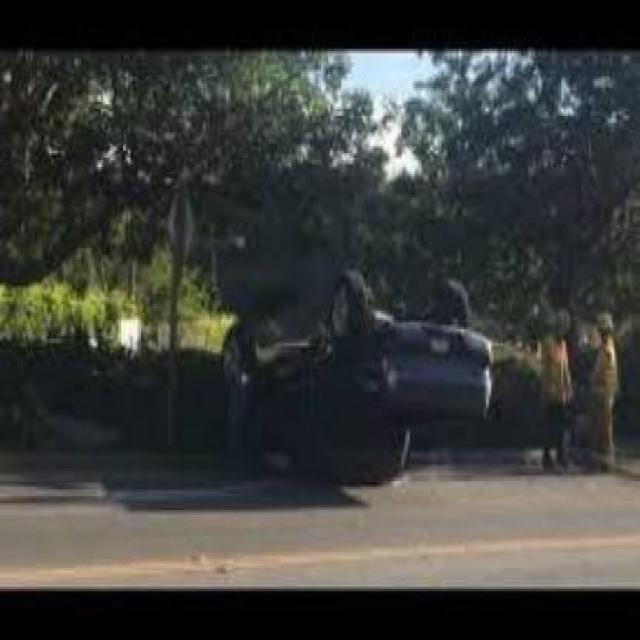accident: (200, 257, 500, 501)
